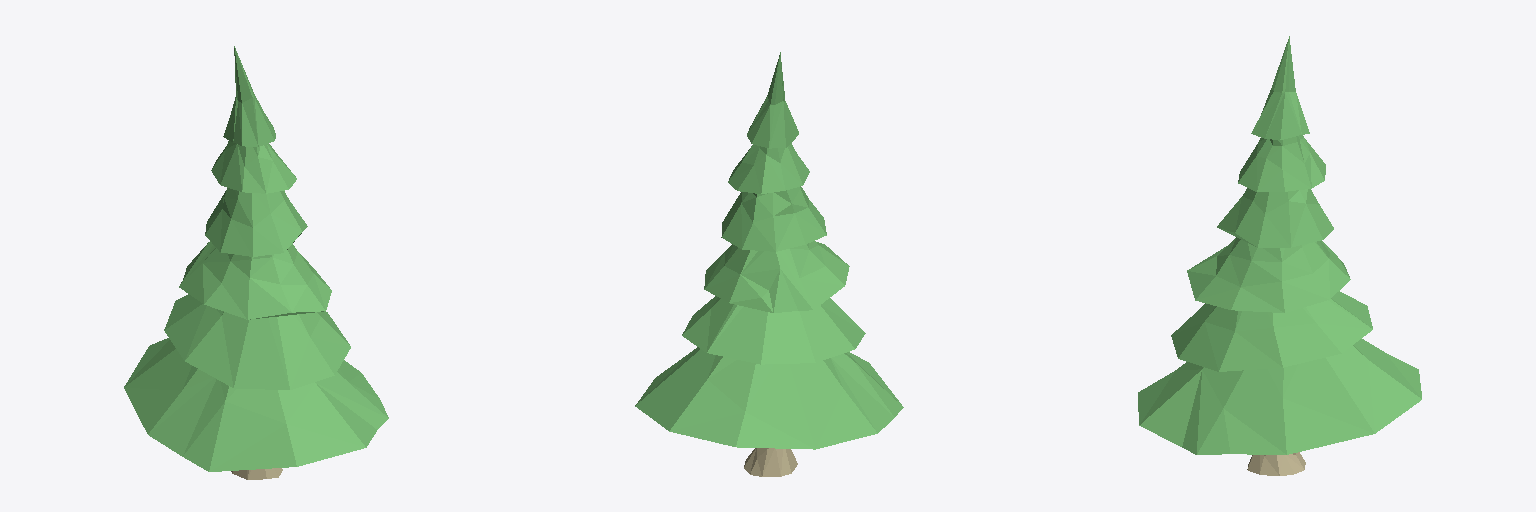
3 renders of one model, left to right at view 1: azimuth 30°, elevation 25°; view 2: azimuth 150°, elevation 25°; view 3: azimuth 270°, elevation 25°, orthographic.
Parts seen in each view (by area): view 1: LowPolyFirTree; view 2: LowPolyFirTree; view 3: LowPolyFirTree.
Boxes of the visible parts, x1,y1,x2,y2 form: LowPolyFirTree: [124, 46, 388, 479]; LowPolyFirTree: [635, 52, 903, 476]; LowPolyFirTree: [1138, 36, 1421, 475].
Bounding box in the file's own units: 5.14 × 9.53 × 5.81.
1 materials, 1 textured.